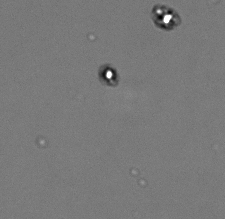Living Cell: (154, 6, 178, 28), (99, 66, 117, 83)
